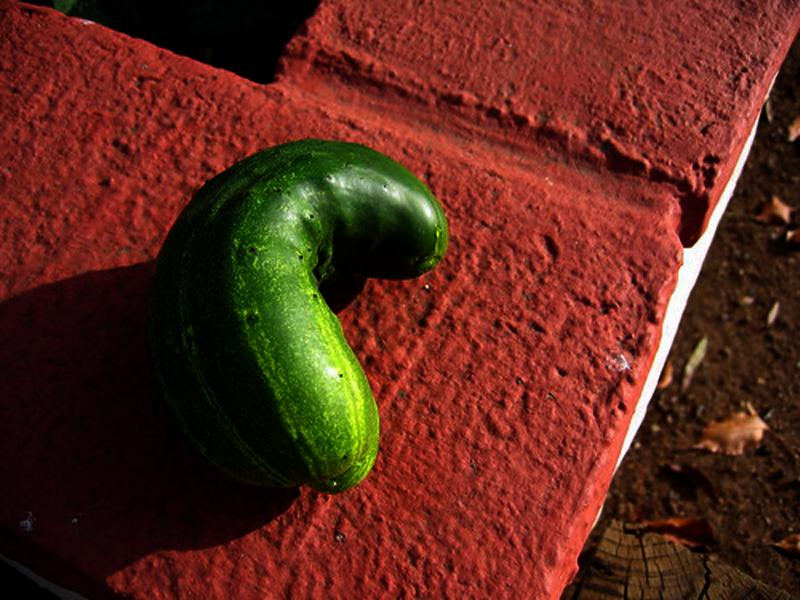Cucumber: (149, 139, 451, 491)
